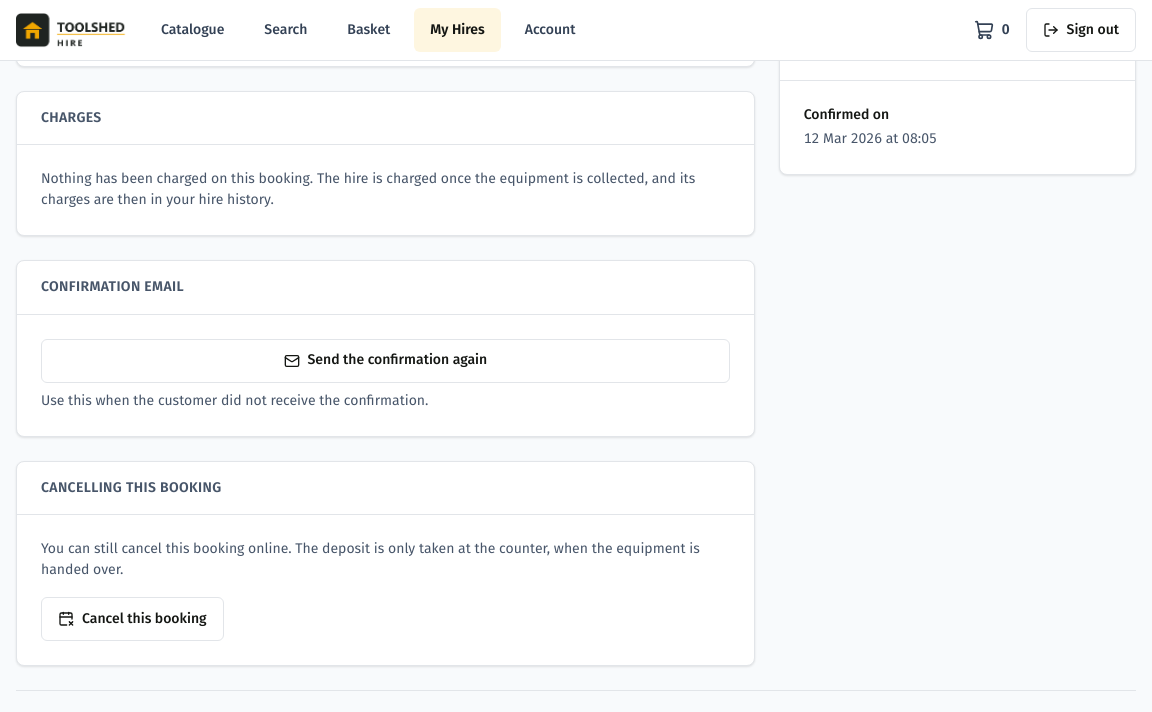
it: sending the confirmation again › says the three-per-hour limit in plain words with the wait
(page scrolled)
Click the button "Send the confirmation again": (385, 361) [41,339,730,383]
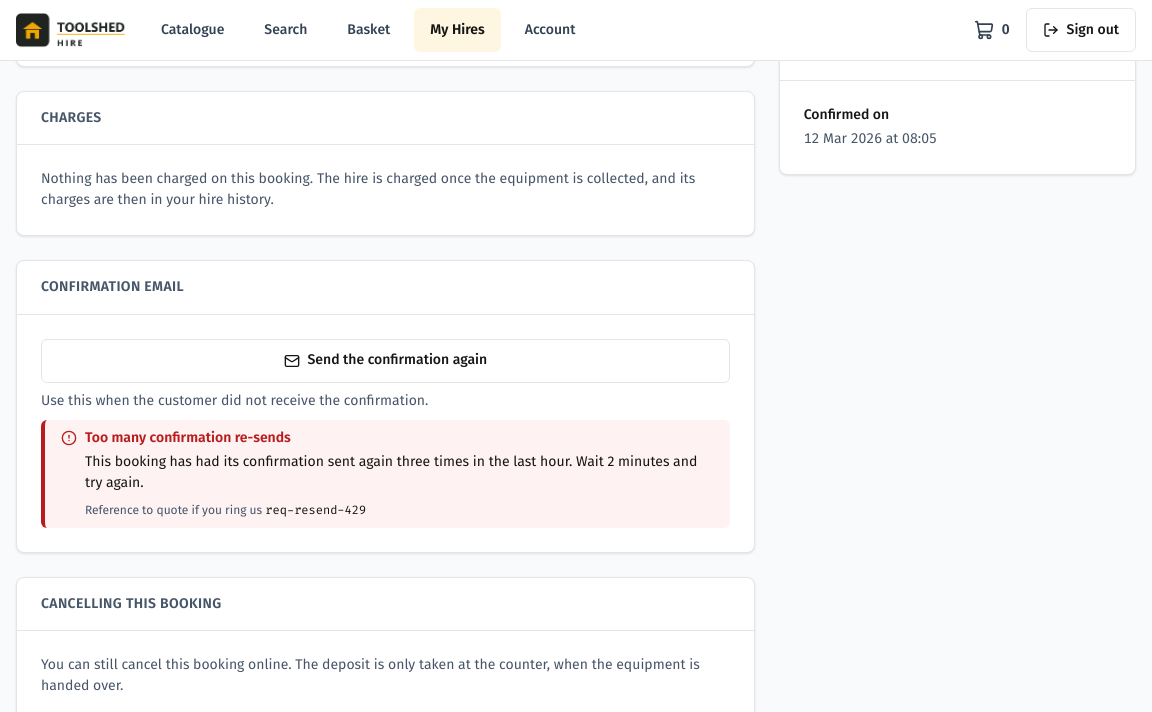
Check: the message that starts with "Too many confirmation re-sends" is shown, box [85,428,291,446]
Check: the message that starts with "Too many confirmation re-sends" shows "three times in the last hour", box [85,453,697,491]
Check: the message that starts with "Too many confirmation re-sends" shows "Wait 2 minutes and try again.", box [85,453,697,491]
